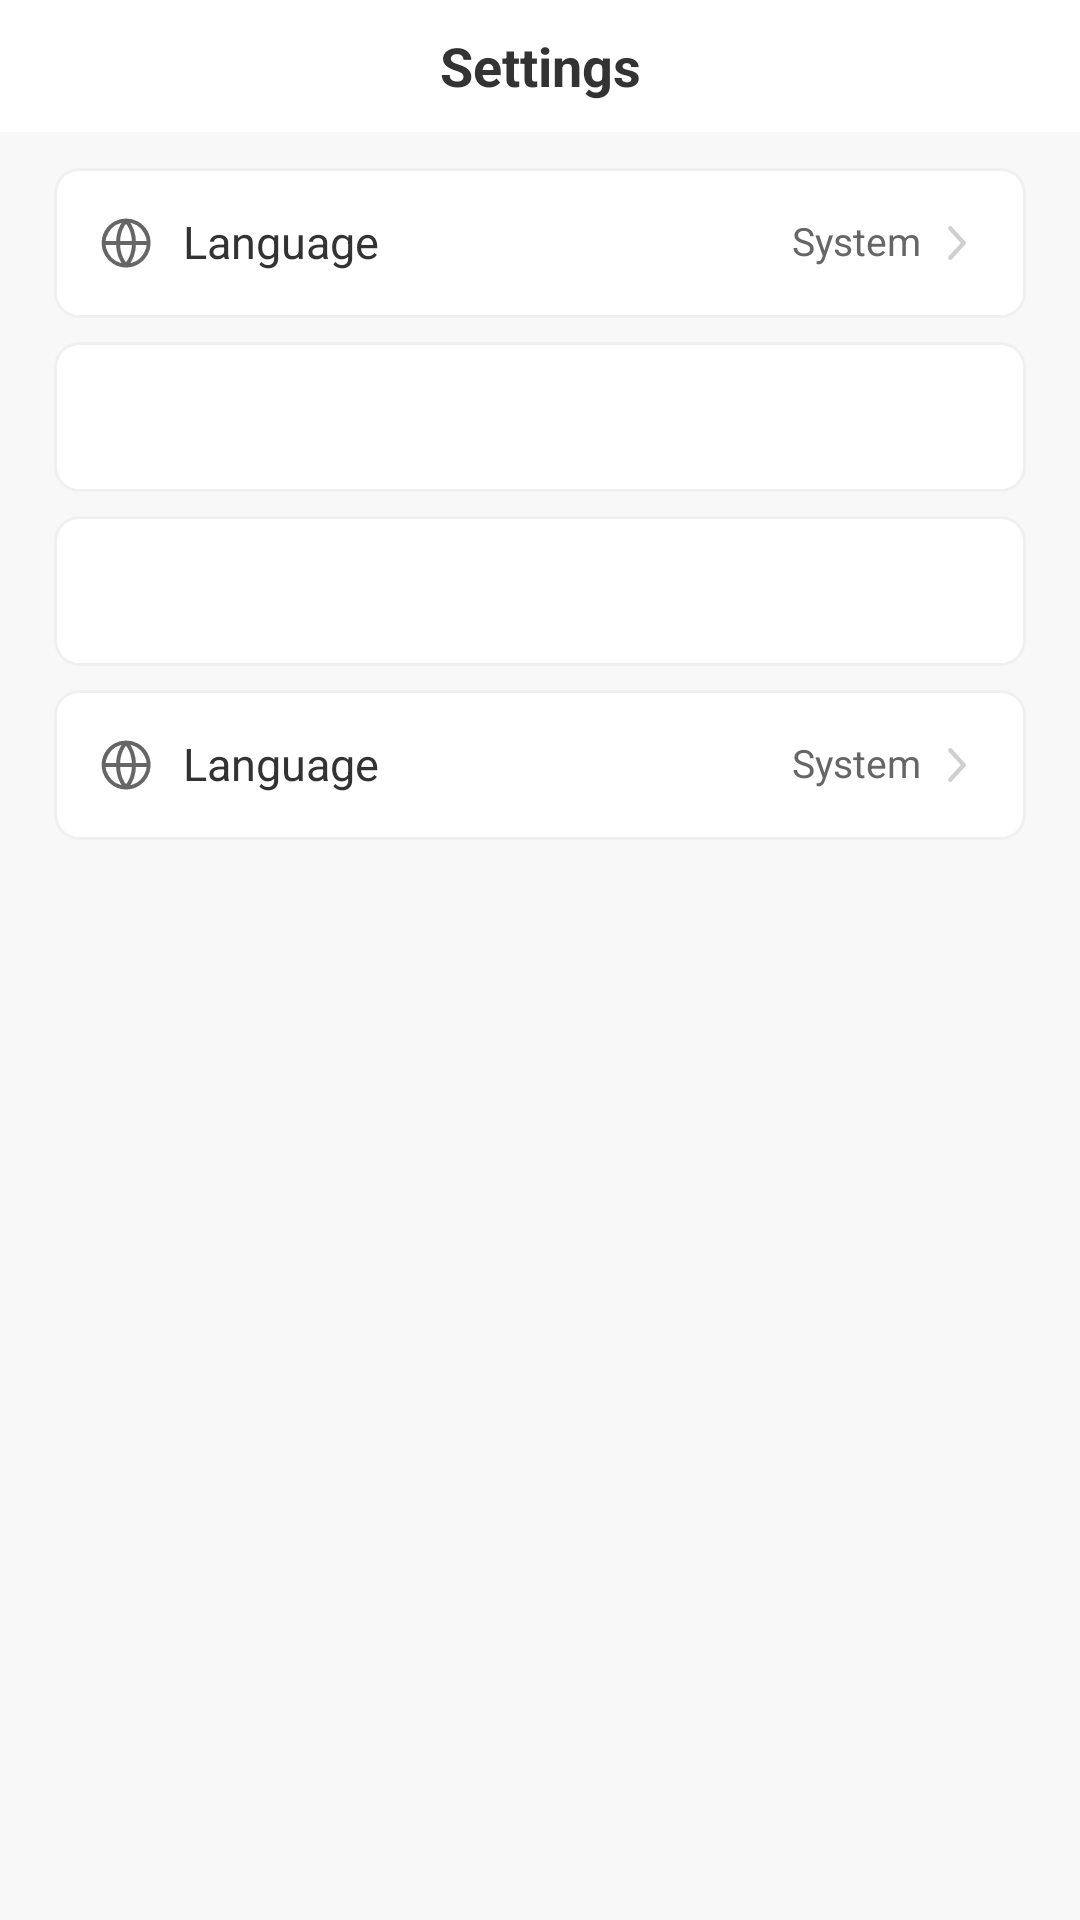

Icon bounding boxes for this 1080*1920 phone screenshot, format (x1, y1, x2, y2):
flash chevron right: (948, 226, 966, 260), (948, 748, 966, 782)
